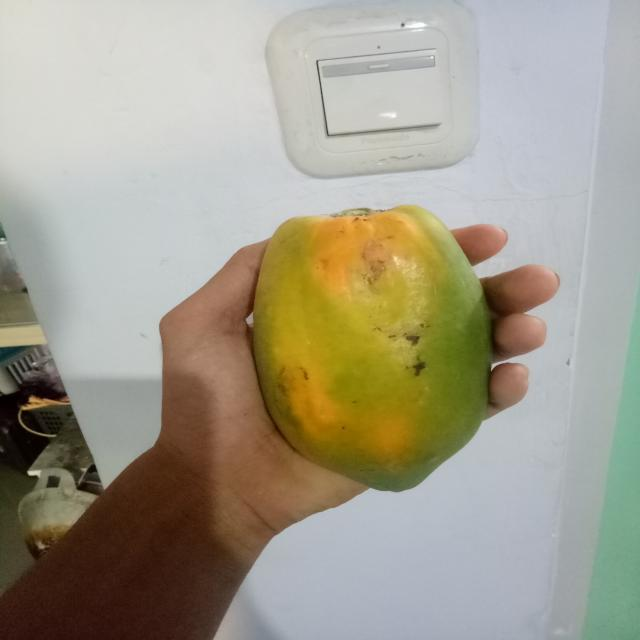Pepaya rippen: (253, 208, 496, 502)
